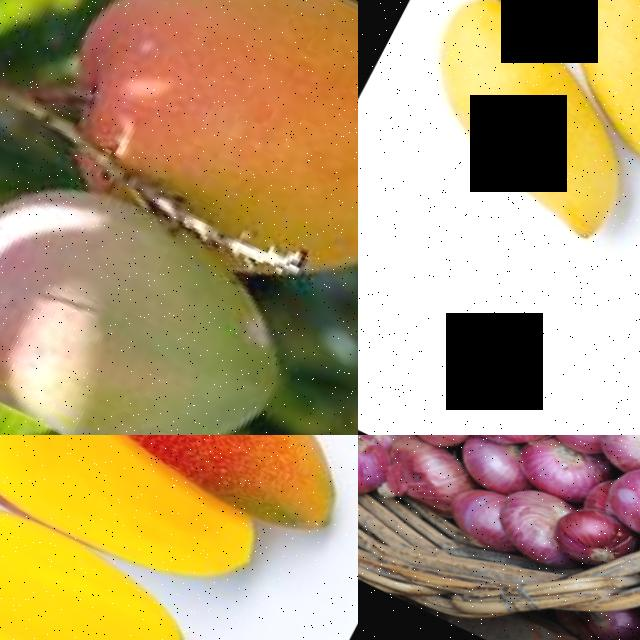mango: (40, 0, 358, 324), (0, 137, 332, 435), (0, 435, 277, 632), (0, 435, 358, 571), (0, 435, 225, 640), (388, 0, 584, 184), (528, 0, 640, 123)
onion: (485, 477, 578, 571), (512, 435, 610, 513), (449, 435, 533, 502), (598, 460, 640, 565), (358, 435, 399, 514), (450, 435, 551, 462), (397, 435, 476, 460), (541, 435, 614, 462)
